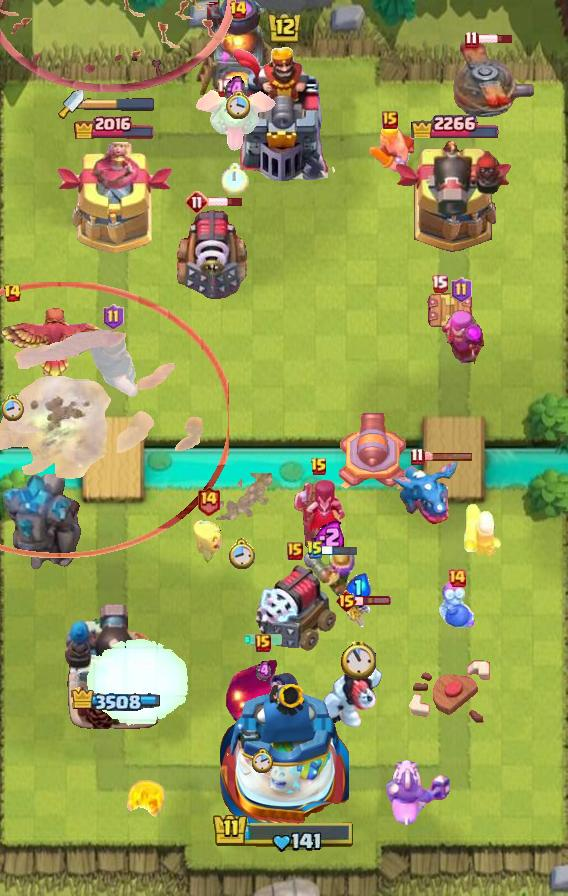archer: (366, 128, 414, 172)
bar: (55, 142, 173, 256)
bat-evolution: (192, 519, 224, 563)
bomb-tower: (303, 547, 357, 599)
cannoneer-tower: (0, 474, 84, 572)
clock: (212, 812, 356, 854)
dark-prince: (426, 40, 544, 126)
electro-spirit: (313, 519, 347, 555), (345, 573, 371, 603), (225, 74, 247, 105), (257, 660, 272, 682)
electro-wizard: (193, 89, 277, 151)
elixir: (341, 640, 376, 679), (221, 163, 249, 195), (227, 537, 255, 569), (225, 92, 250, 121), (1, 394, 24, 421), (252, 748, 274, 774)
emote: (422, 451, 474, 462), (322, 543, 359, 556), (477, 33, 514, 45), (207, 196, 244, 208), (356, 595, 393, 607)
fisherman: (211, 472, 272, 519)
freeze: (386, 760, 452, 830)
goblin-brawler: (424, 288, 474, 334)
golden-knight: (0, 306, 112, 384)
golem: (252, 562, 338, 652), (173, 206, 251, 302)
graveyard: (391, 457, 461, 525)
heal-spirit: (344, 597, 372, 631)
hunter: (194, 0, 282, 110)
ice-golem: (437, 581, 477, 629)
ice-spirit: (243, 633, 283, 645)
inferno-tower: (224, 656, 302, 728)
king-tower: (219, 678, 349, 826), (230, 45, 338, 181)
king-tower-bar: (84, 97, 156, 111)
mega-knight: (85, 637, 191, 731)
rage: (317, 665, 383, 729)
rascal-boy: (290, 478, 348, 550)
rascal-girl: (437, 306, 485, 374)
royal-ghost: (0, 282, 228, 558)
royal-hog: (84, 328, 142, 400)
royal-recruit: (336, 411, 408, 495)
selected: (409, 108, 500, 138), (68, 687, 159, 713), (72, 113, 155, 139)
skeleton-barrel: (0, 0, 236, 92)
text: (195, 485, 220, 516), (185, 190, 209, 214), (335, 589, 358, 613), (451, 277, 472, 303), (103, 304, 124, 330), (228, 0, 248, 20), (447, 568, 467, 588), (3, 283, 22, 303), (310, 457, 328, 477), (306, 540, 324, 560), (215, 78, 233, 97), (431, 274, 449, 293), (382, 111, 398, 129), (287, 542, 303, 560), (255, 634, 271, 652), (410, 447, 425, 466), (465, 31, 479, 49)
tombstone: (462, 501, 504, 559)
tower-bar: (392, 138, 514, 256), (64, 601, 164, 731)
valkyrie: (122, 778, 168, 826)
